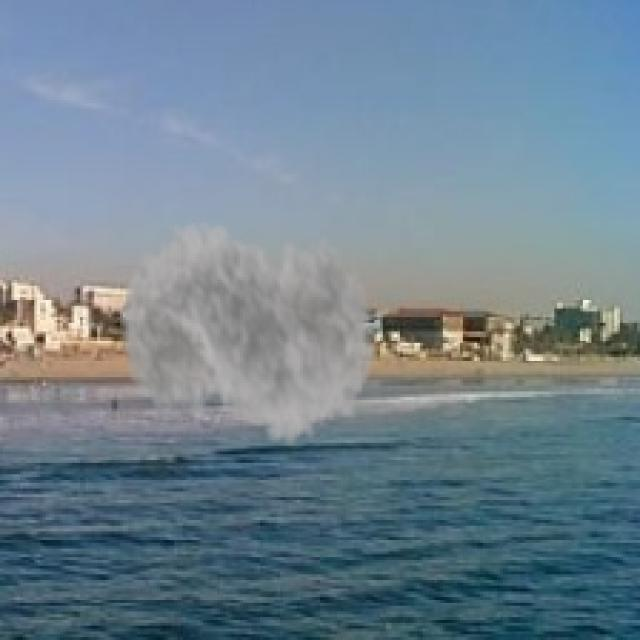smoke: (117, 191, 377, 466)
